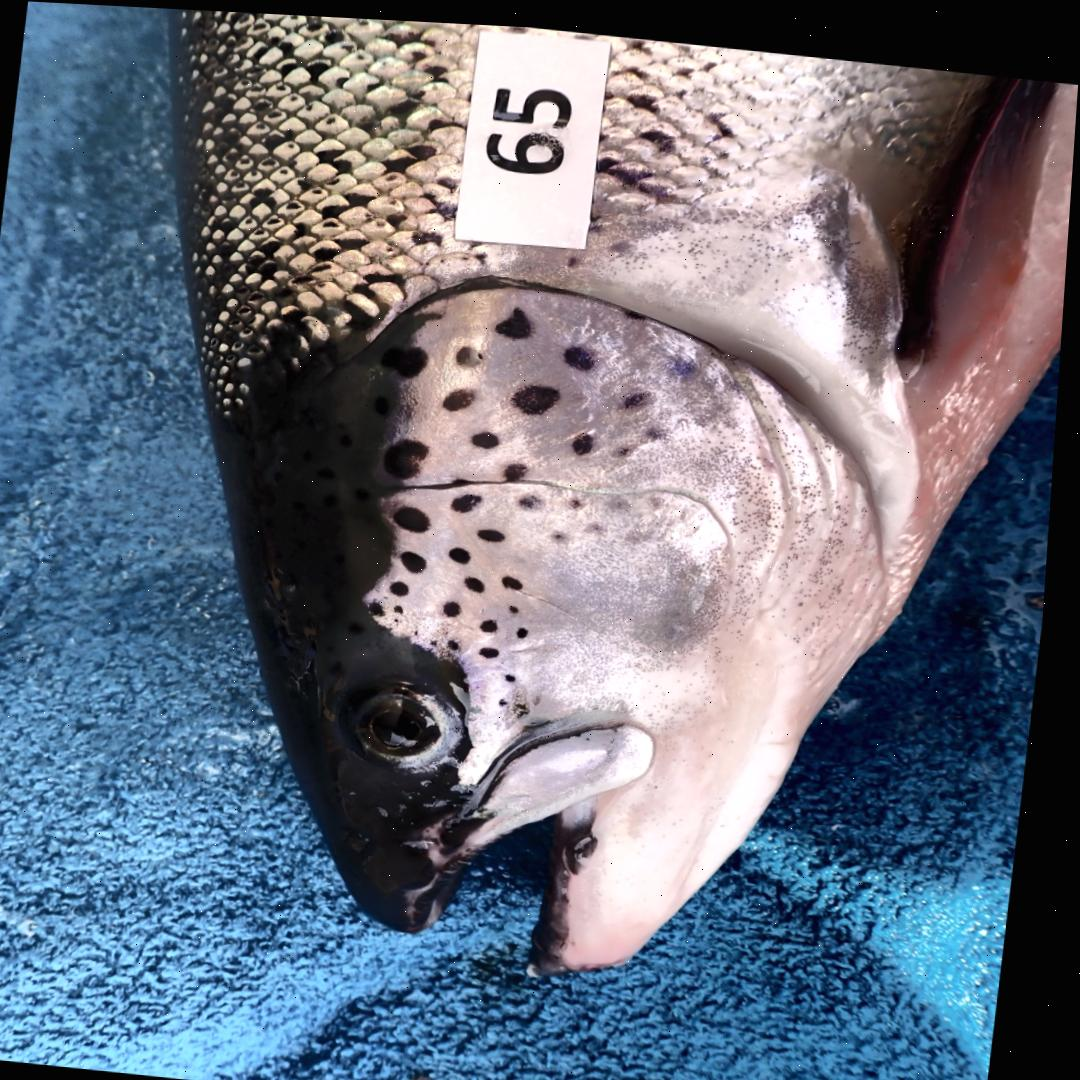spot: (389, 433, 434, 473), (517, 376, 564, 409), (385, 341, 432, 373), (498, 300, 537, 332), (400, 500, 438, 526), (567, 338, 600, 363), (447, 382, 480, 405), (628, 381, 657, 402), (460, 339, 487, 361), (457, 487, 487, 506), (407, 546, 434, 567), (576, 426, 600, 447), (675, 350, 701, 368), (509, 456, 533, 474), (455, 540, 479, 558), (478, 425, 504, 441), (485, 521, 512, 535), (472, 569, 492, 586), (509, 568, 530, 583), (526, 488, 548, 502), (451, 595, 469, 611), (398, 576, 416, 590), (487, 640, 508, 652), (488, 612, 505, 626), (376, 597, 391, 611), (650, 421, 669, 431), (622, 438, 639, 449), (574, 491, 588, 502), (455, 633, 468, 644), (560, 525, 575, 534), (524, 620, 536, 631), (401, 599, 412, 608), (514, 667, 524, 675), (517, 599, 527, 606)
